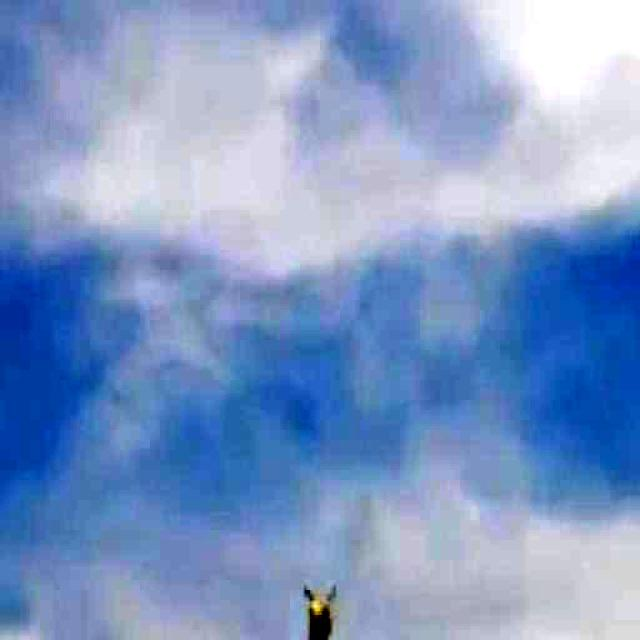drone: (289, 555, 344, 640)
